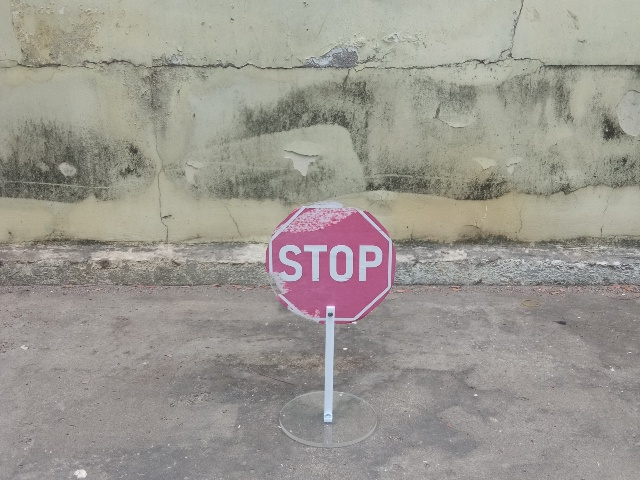Stop_Sign: (264, 202, 396, 325)
